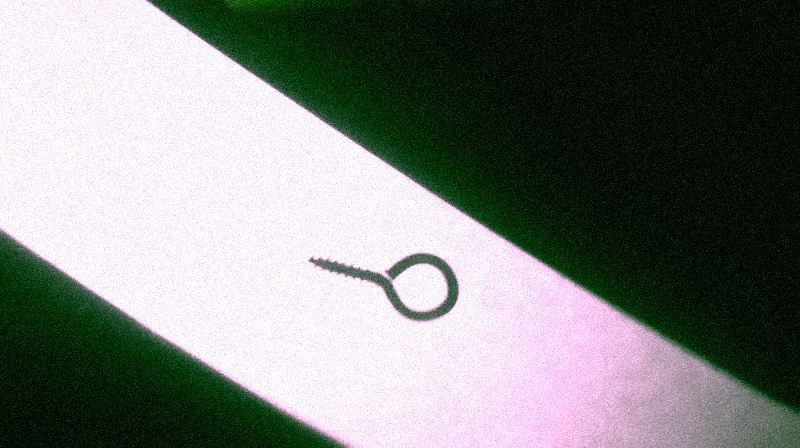O001: (303, 248, 461, 324)
